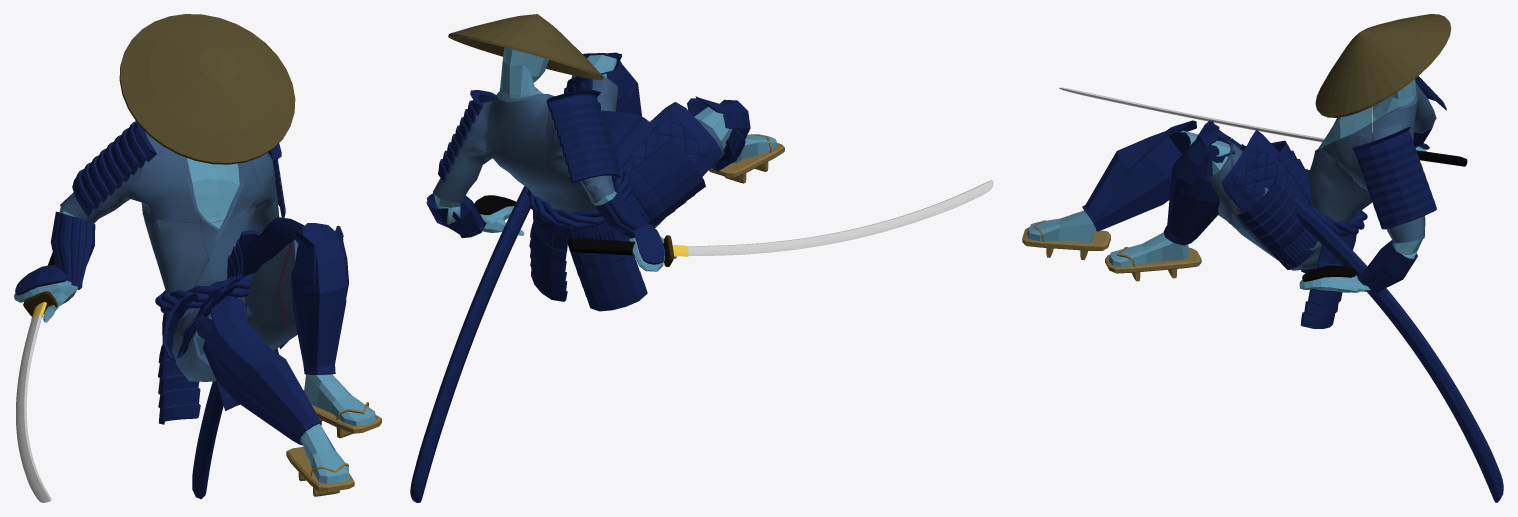
Rendered from Explosion_Ragdoll_Ronin_Sword.fbx.
3 views of the same model, side by side, from view 1: azimuth 30°, elevation 25°; view 2: azimuth 150°, elevation 25°; view 3: azimuth 270°, elevation 25° (orthographic). The views are drawn at different scales.
Parts seen in each view (by area): view 1: Kasa.002, RSuneate, LSuneate, BaseModel.012, RSode, BaseModel.015, BaseModel.006, Katana, R Oda Gote, KusaziriRBack, BaseModel.024, BaseModel.013 (+19 smaller); view 2: Saya, Katana, RSode, Kasa.002, KusaziriRLeg, KusaziriRBack, BaseModel.020, RHaidate, KusaziriLBack, BaseModel.009, RSuneate, KusaziriFront (+14 smaller); view 3: Kasa.002, RSuneate, Saya, LSode, LSuneate, KusaziriLLeg, LHaidate, BaseModel.013, BaseModel.009, Katana, KusaziriLBack, L Oda Gote (+12 smaller).
Part boxes in pixels (<box>): Kasa.002: <box>119,14,295,164</box>; RSuneate: <box>195,296,321,445</box>; LSuneate: <box>291,223,348,374</box>; BaseModel.012: <box>145,212,211,310</box>; RSode: <box>72,120,156,216</box>; BaseModel.015: <box>179,155,258,223</box>; BaseModel.006: <box>135,150,200,223</box>; Katana: <box>16,252,57,502</box>; R Oda Gote: <box>50,211,95,289</box>; KusaziriRBack: <box>158,311,200,424</box>; BaseModel.024: <box>237,251,288,328</box>; BaseModel.013: <box>200,198,258,284</box>; Saya: <box>410,186,530,502</box>; Katana: <box>568,180,993,266</box>; RSode: <box>546,90,620,182</box>; Kasa.002: <box>448,14,603,79</box>; KusaziriRLeg: <box>613,138,705,239</box>; KusaziriRBack: <box>564,222,647,311</box>; BaseModel.020: <box>485,87,554,163</box>; RHaidate: <box>622,102,722,175</box>; KusaziriLBack: <box>529,211,567,301</box>; BaseModel.009: <box>433,100,493,207</box>; RSuneate: <box>687,96,750,171</box>; KusaziriFront: <box>601,110,655,182</box>; Kasa.002: <box>1315,14,1451,117</box>; RSuneate: <box>1082,120,1196,231</box>; Saya: <box>1294,196,1503,502</box>; LSode: <box>1352,127,1436,229</box>; LSuneate: <box>1163,120,1235,245</box>; KusaziriLLeg: <box>1236,171,1317,269</box>; LHaidate: <box>1221,129,1309,267</box>; BaseModel.013: <box>1309,140,1371,222</box>; BaseModel.009: <box>1347,125,1425,254</box>; Katana: <box>1059,87,1467,166</box>; KusaziriLBack: <box>1300,234,1356,328</box>; L Oda Gote: <box>1357,240,1417,295</box>.
Size of the model in its own units: 224 by 249 by 241.
